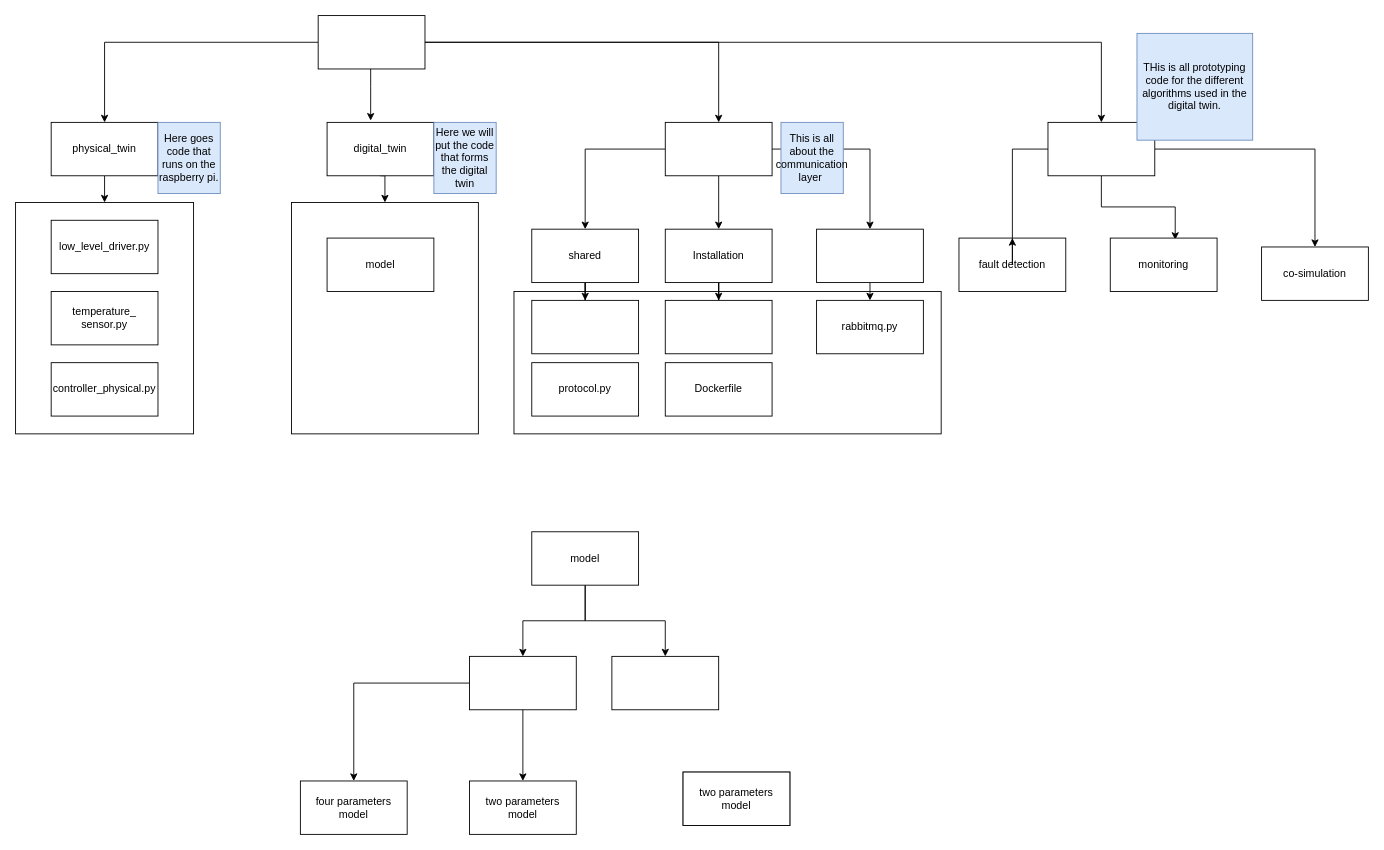
This 1384x850 diagram has some shape labels left out. Each missing label, with the centre of its shape:
"communication" belongs at point (718, 148).
"connection_ parameters.py" belongs at point (585, 326).
"controller model" belongs at point (665, 682).
"docker-compose.yml" belongs at point (718, 326).
"plant model" belongs at point (522, 682).
"server" belongs at point (869, 255).
"Software" belongs at point (371, 42).
"Tests" belongs at point (1101, 148).
